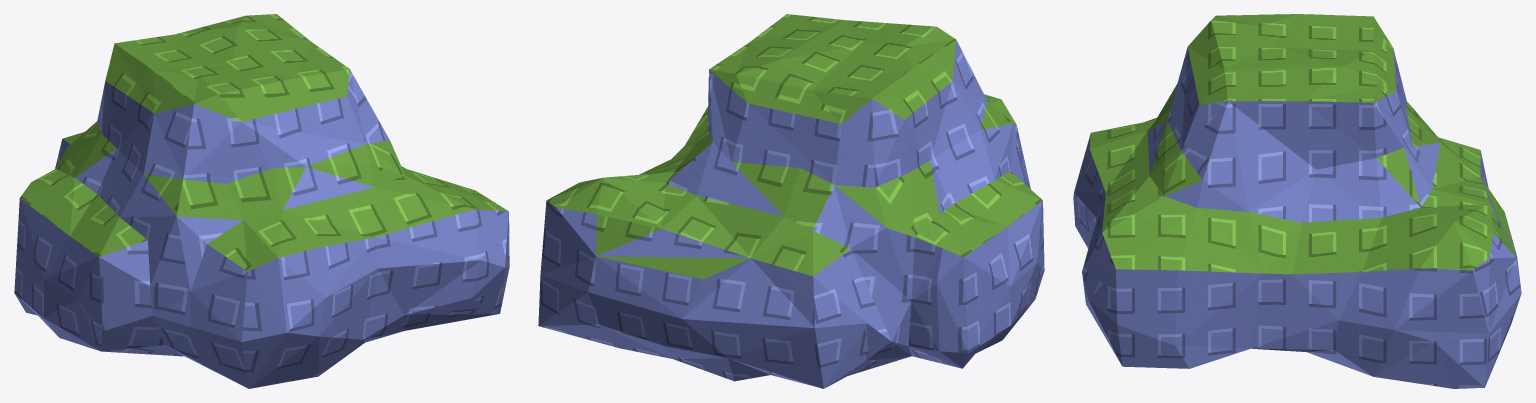
The model's file is RockOutcropSmall.glb.
3 views of the same model, side by side, from view 1: azimuth 30°, elevation 25°; view 2: azimuth 150°, elevation 25°; view 3: azimuth 270°, elevation 25° (orthographic). The views are drawn at different scales.
Visible parts, largest first — view 1: RockOutcropSmall_Rock, RockOutcropSmall_Top; view 2: RockOutcropSmall_Rock, RockOutcropSmall_Top; view 3: RockOutcropSmall_Rock, RockOutcropSmall_Top.
Part boxes in pixels (x1,y1,x2,y2): RockOutcropSmall_Rock: (14, 69, 509, 388); RockOutcropSmall_Top: (20, 14, 508, 271); RockOutcropSmall_Rock: (538, 40, 1044, 388); RockOutcropSmall_Top: (546, 14, 1042, 279); RockOutcropSmall_Rock: (1073, 47, 1521, 388); RockOutcropSmall_Top: (1089, 14, 1515, 274).
Bounding box in the file's own units: 8.47 × 5.61 × 8.91.
Materials: 2 (2 with a texture image).
